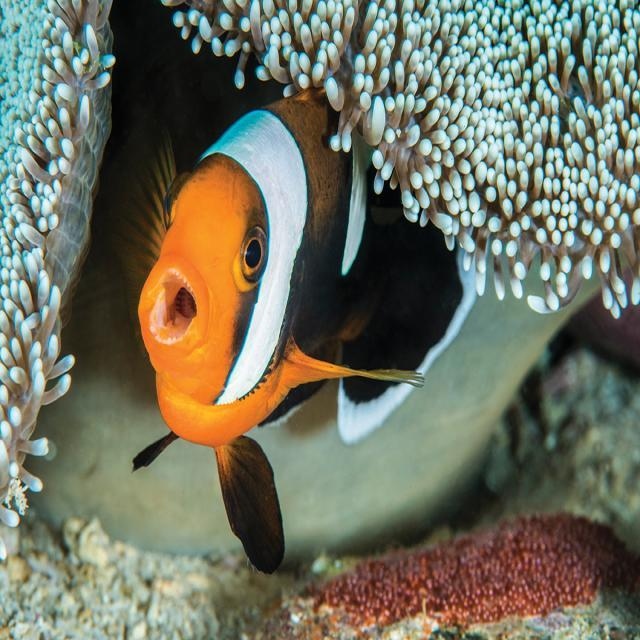ClownFish: (132, 92, 422, 562)
